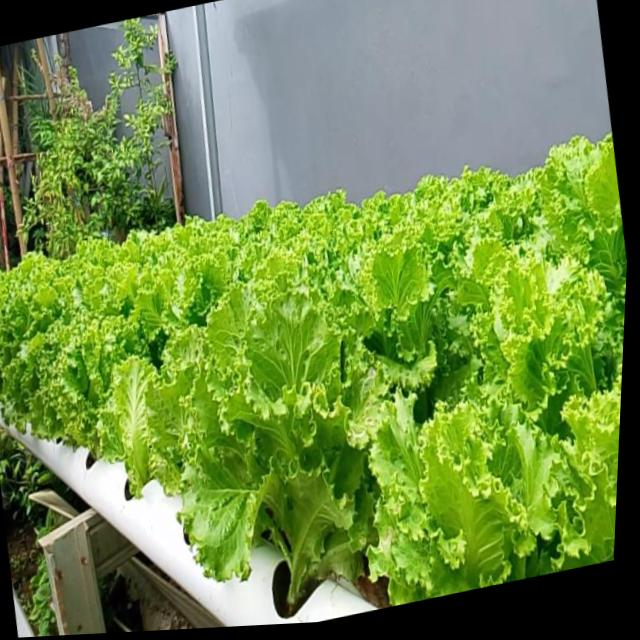Mature: (0, 139, 627, 622), (155, 297, 385, 621), (29, 315, 139, 471)
